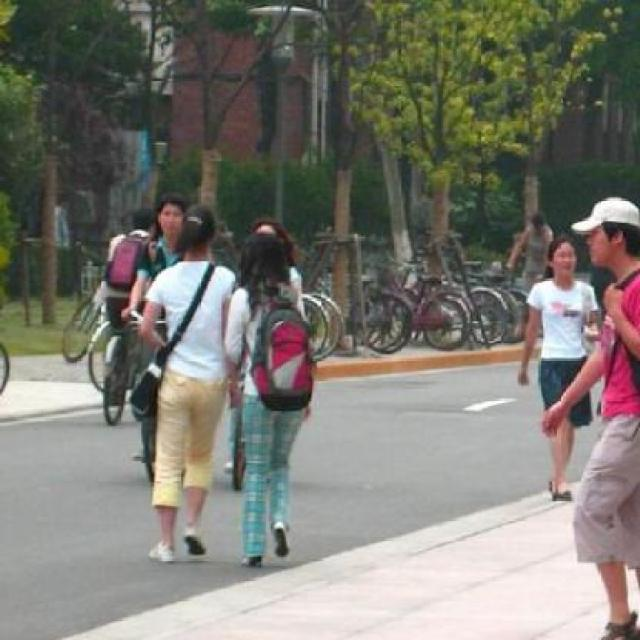obstacle: (570, 186, 638, 639), (148, 209, 230, 566), (241, 226, 321, 571), (518, 232, 598, 500)
